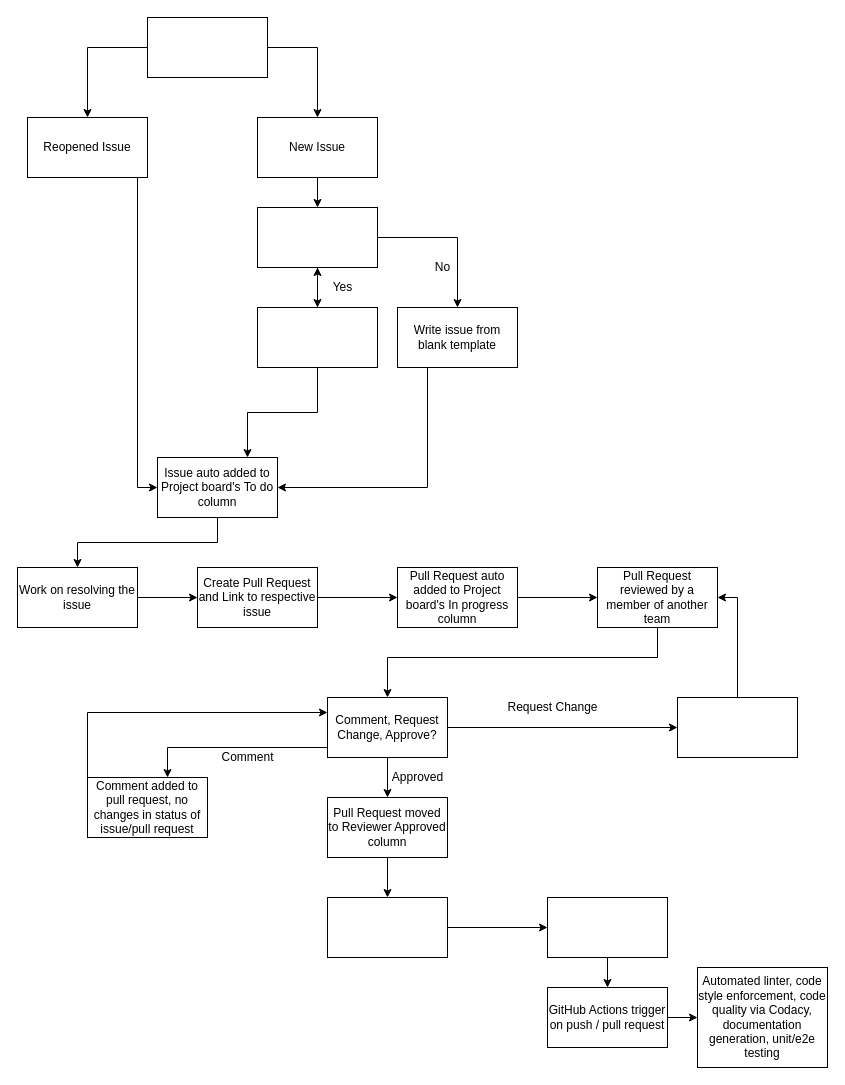
This 845x1085 diagram has some shape labels left out. The centre of each missing label's shape, as x and y in pixels:
"Fill in the issue template" goes at point 317,337.
"Issue" goes at point 207,47.
"Owner merges code to main, closing the pull request" goes at point 387,927.
"Owner reviews request changes and implements (or doesn't) them" goes at point 737,727.
"Pull Request and its related issue are moved to Done column" goes at point 607,927.
"Use Issue Template?" goes at point 317,237.
